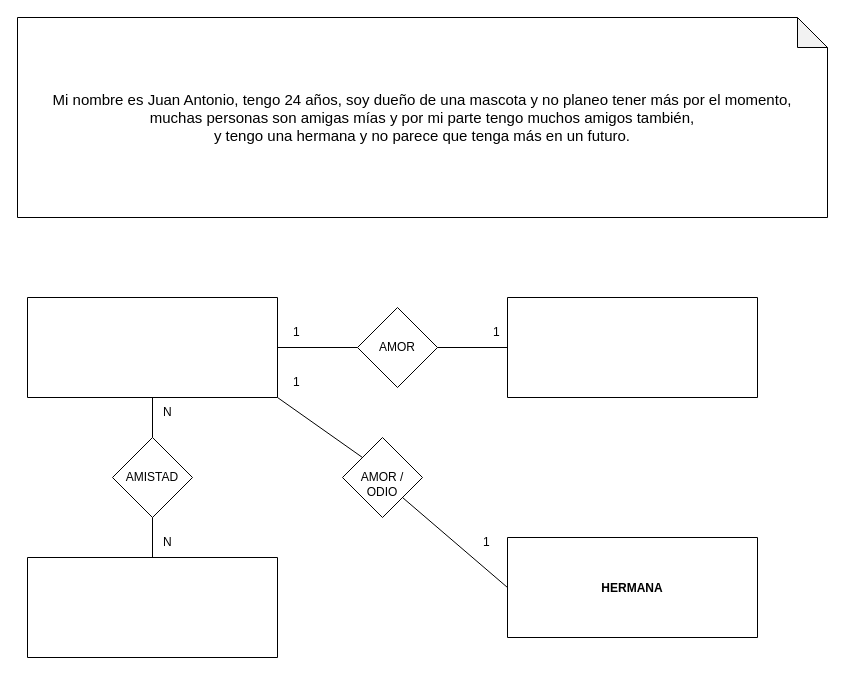
Image size: 845x675. Some labels were removed from this diagram. Here are the shapes that lost their labels. From the top down, the centre of each, then its label:
At point (152, 347): "JUAN ANTONIO".
At point (632, 347): "MASCOTAS".
At point (152, 607): "GENTE".
